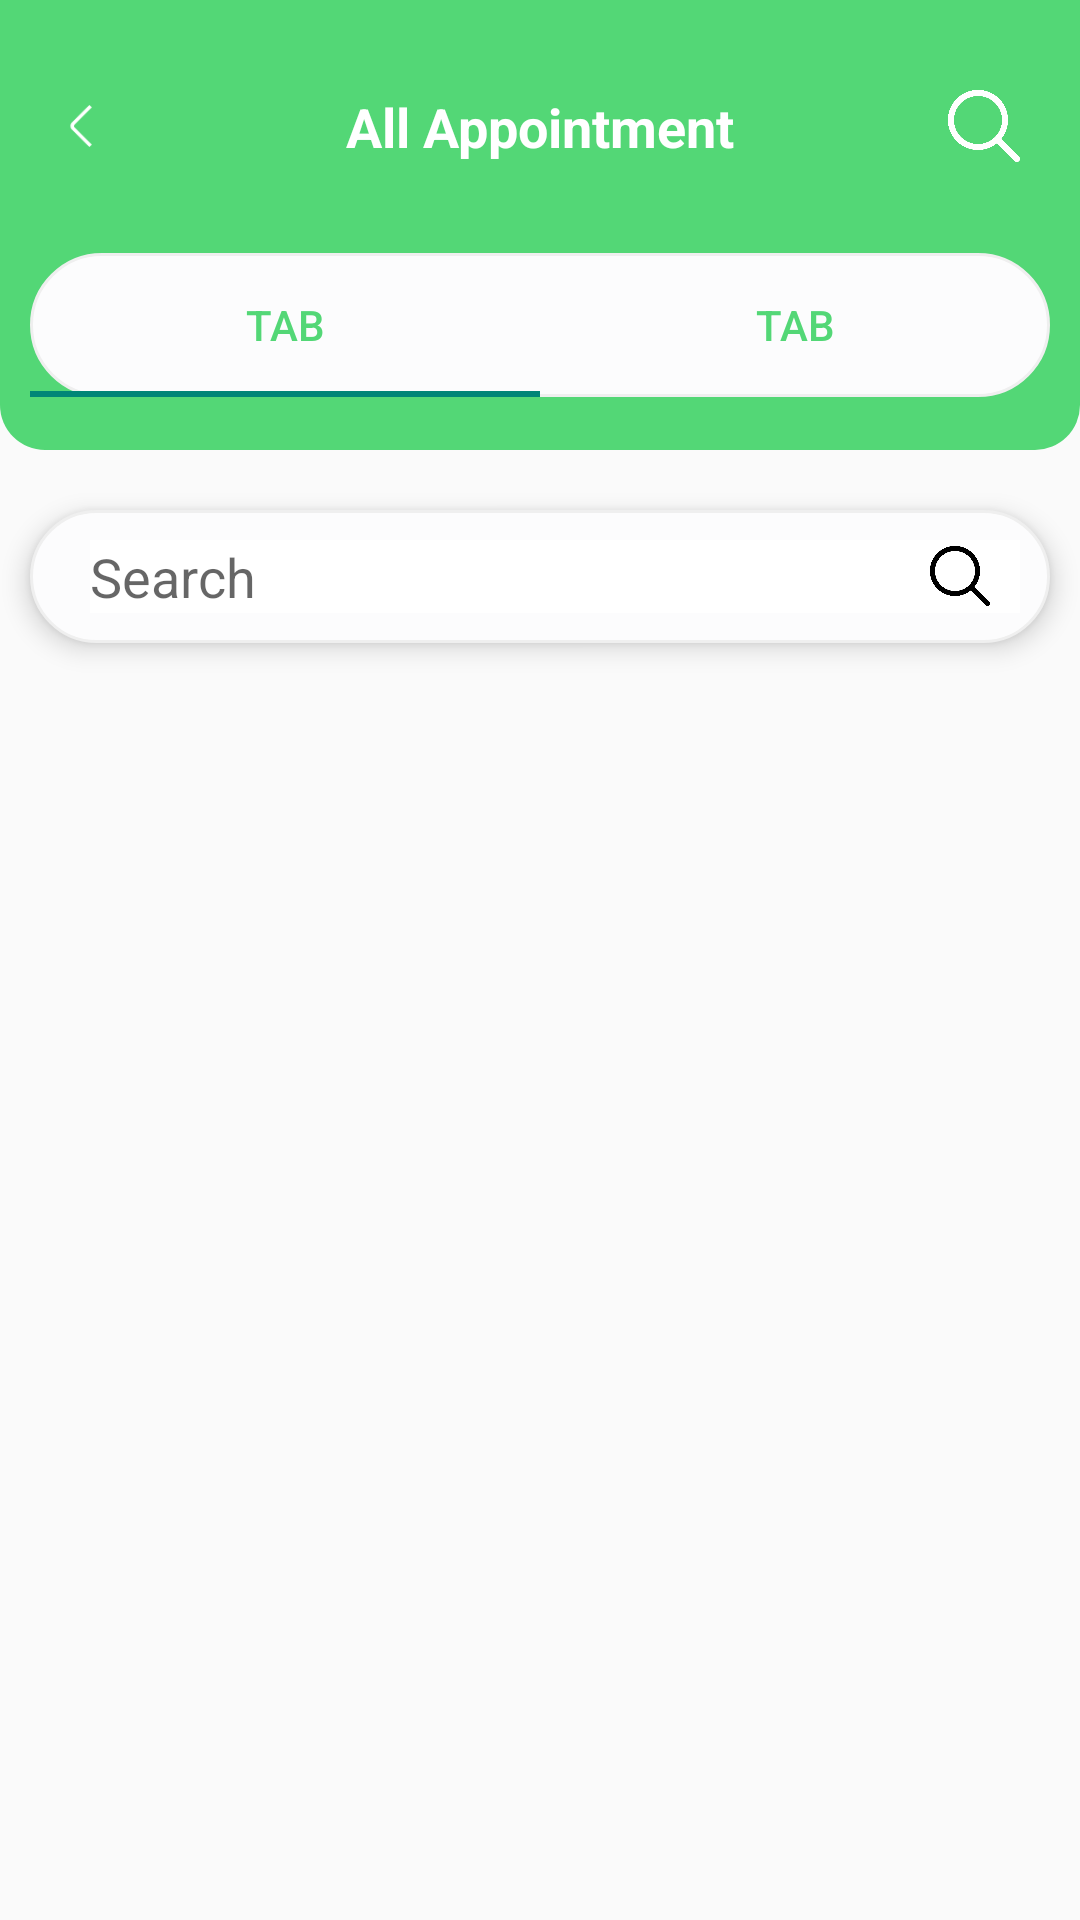

Locate icon controls on the screen. Image size 1080px x 1920px, boxes as [x1, y1, x2, y2].
back: [70, 105, 92, 147]
